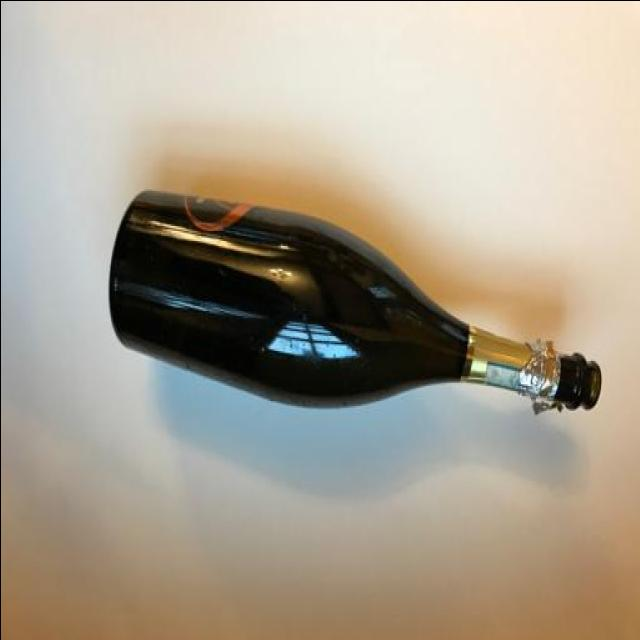glass: (88, 164, 606, 462)
